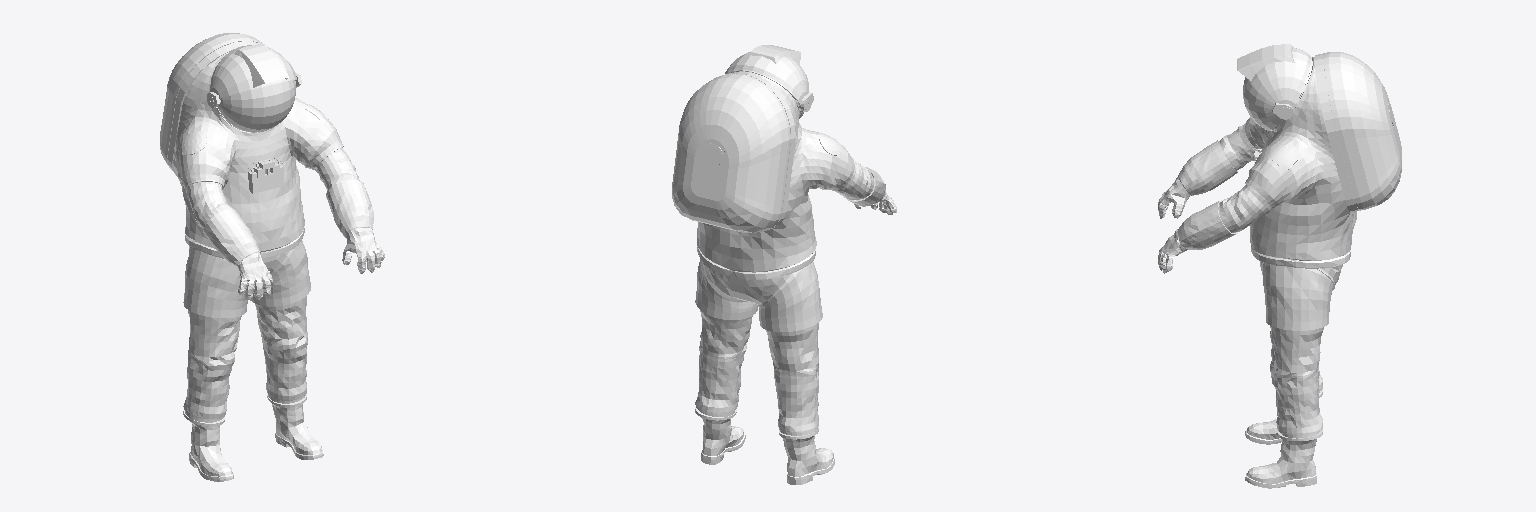
Rendered from astronaut.obj.
3 views of the same model, side by side, from view 1: azimuth 30°, elevation 25°; view 2: azimuth 150°, elevation 25°; view 3: azimuth 270°, elevation 25° (orthographic).
Parts seen in each view (by area): view 1: astronaut; view 2: astronaut; view 3: astronaut.
Part boxes in pixels (bbox=[...]): astronaut: bbox=[160, 33, 384, 481]; astronaut: bbox=[672, 45, 896, 484]; astronaut: bbox=[1158, 44, 1401, 488].
Bounding box in the file's own units: 0.7944 × 1.94 × 1.04.